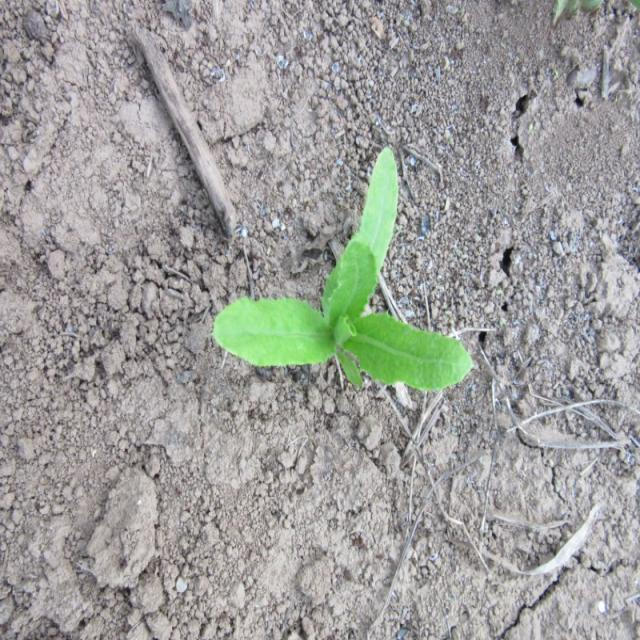cs: (211, 148, 474, 397)
